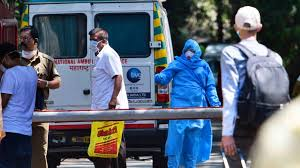mask: (18, 29, 39, 58), (1, 46, 16, 75), (88, 27, 103, 56), (181, 39, 197, 65)
